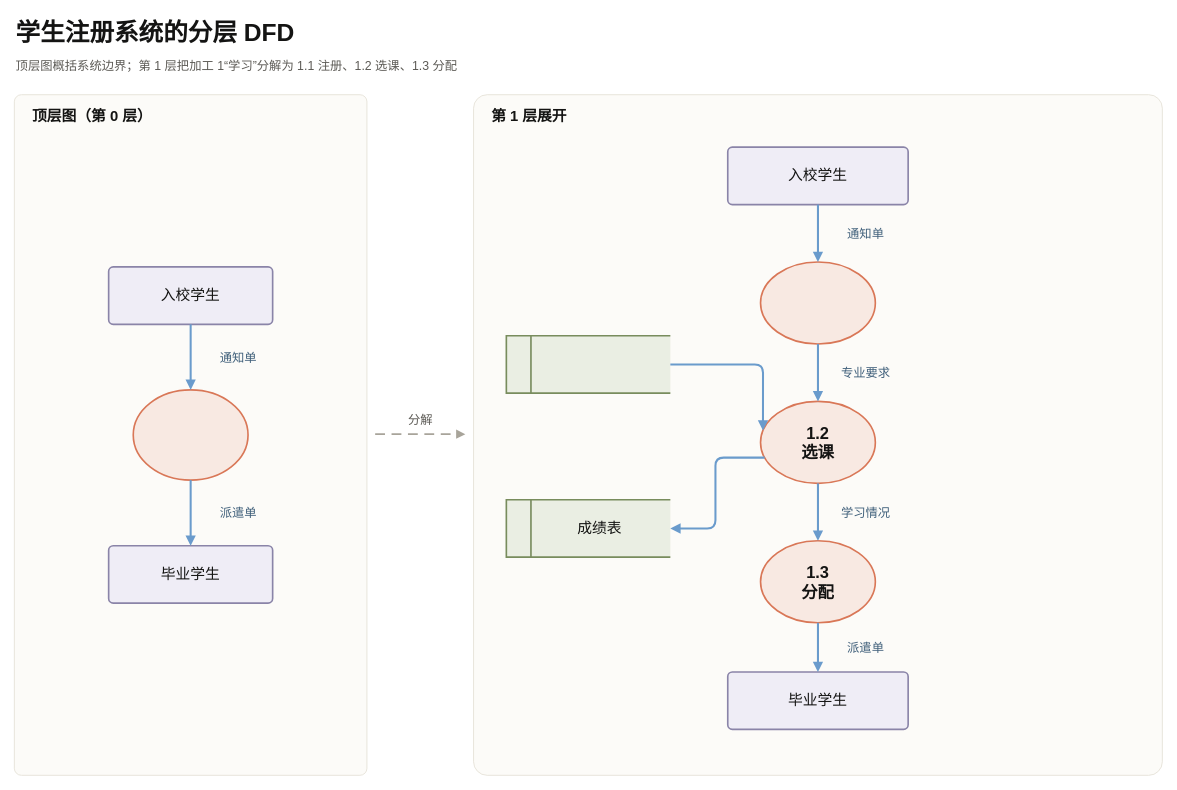
The diagram is 1177 pixels wide and 790 high, and some of its shapes have lost their labels. The shapes that lost their labels are listed below. From the top down, each one's centre as x and y in pixels, then its label:
At point (817, 302): "1.1 注册".
At point (588, 364): "课表".
At point (190, 435): "1 学习".
